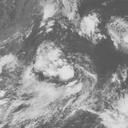cyclone: (25, 43, 88, 105)
